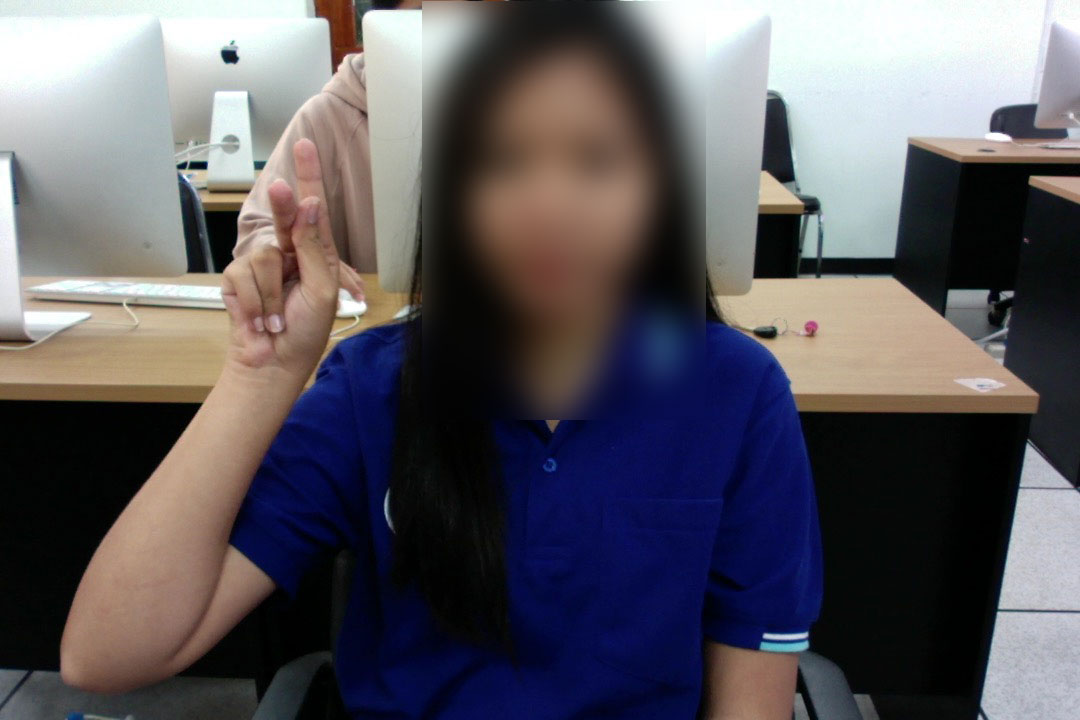ko: (186, 135, 353, 358)
